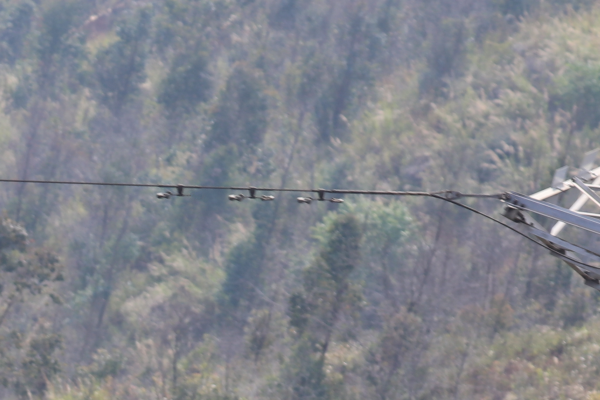damper: (294, 186, 344, 206), (225, 185, 275, 202)
damper_defect: (156, 182, 192, 201)
